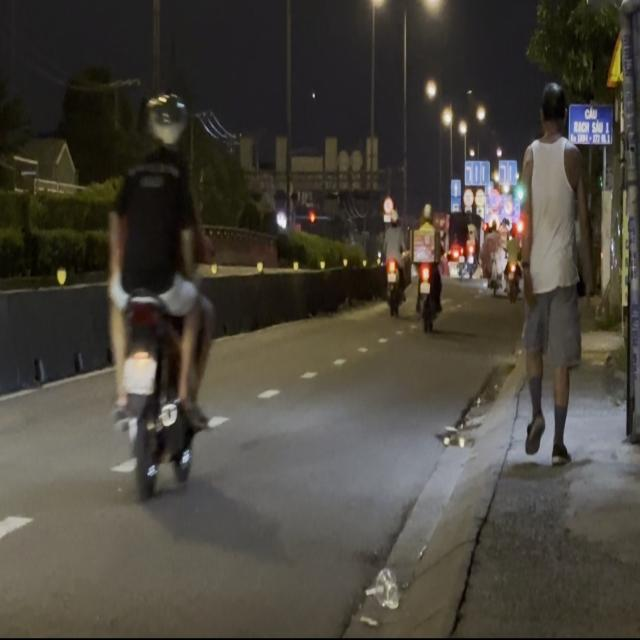helmet: (143, 92, 187, 161)
licenseplate: (100, 86, 217, 499)
nohelmet: (122, 354, 155, 392)
